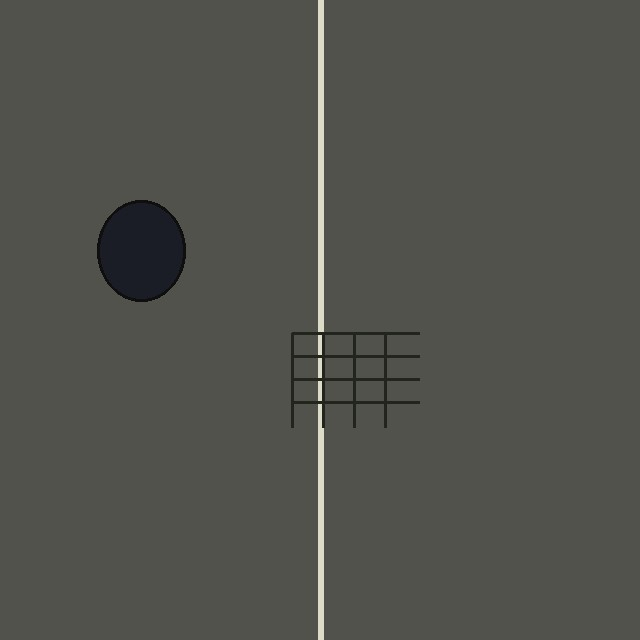alligator_crack: (292, 333, 419, 427)
pothole: (97, 200, 185, 301)
